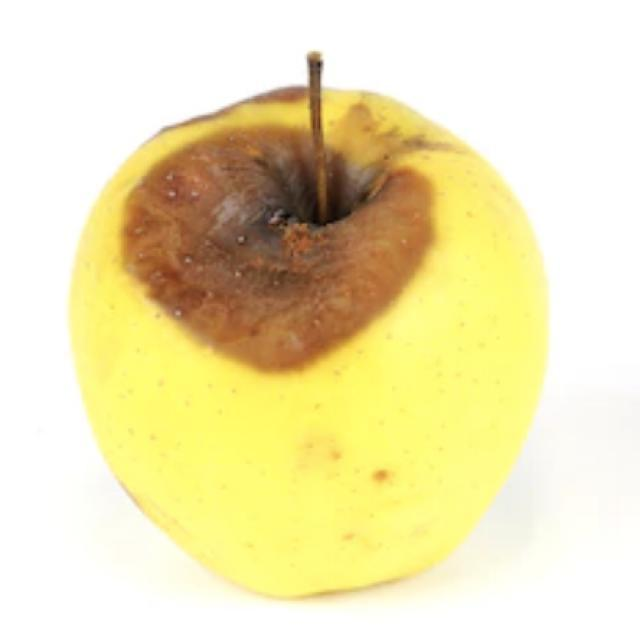Rotten: (85, 98, 583, 595)
